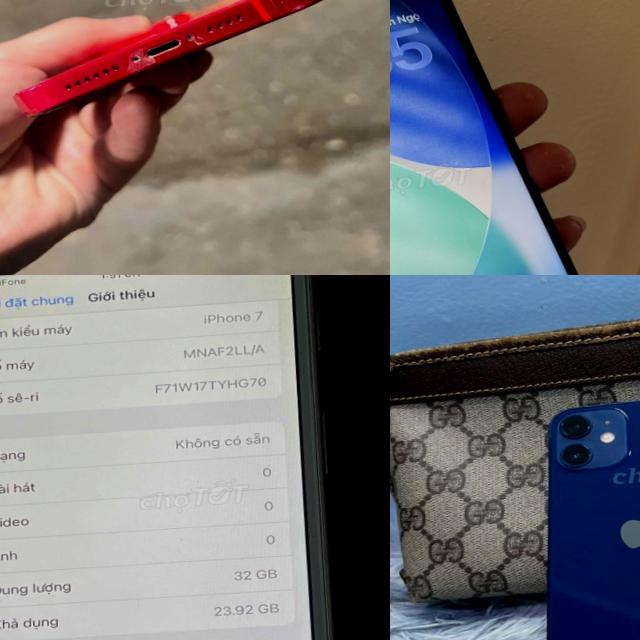gen_12_13: (390, 0, 576, 275), (530, 390, 640, 640)
gen_14: (0, 0, 353, 121)
gen_7_8: (0, 275, 362, 640)
scratch: (119, 42, 168, 78), (187, 24, 215, 52)
